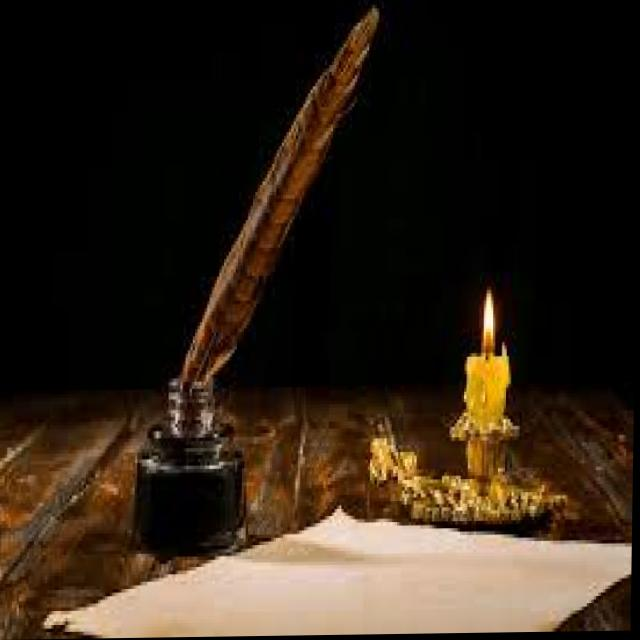fire: (473, 284, 499, 354)
